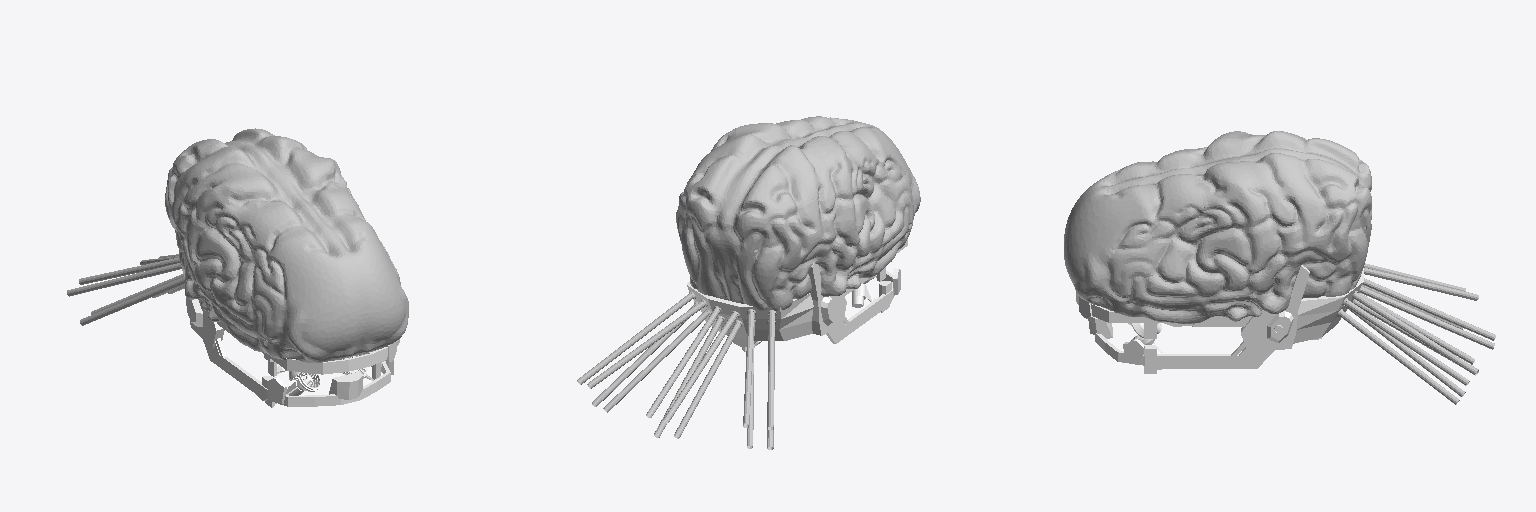
Rendered from AttackAnim_19.obj.
The picture shows the model from 3 angles: view 1: azimuth 30°, elevation 25°; view 2: azimuth 150°, elevation 25°; view 3: azimuth 270°, elevation 25°; orthographic projection.
Visible parts, largest first — view 1: Cube.006, Cube.016, Cube.009, Cube.049, Cube.051, Cube.014, Cube.048, Cube.008; view 2: Cube.006, Cube.003, Cube.008, Cube.016, Cube.044, Cube.045, Cube.047, Cube.055, Cube.053, Cube.052, Cube.048, Cube.049 (+2 smaller); view 3: Cube.006, Cube.016, Cube.003, Cube.012, Cube.046, Cube.052, Cube.045, Cube.053, Cube.044, Cube.047, Cube.048, Cube.009 (+2 smaller).
Part boxes in pixels (x1,y1,x2,y2): Cube.006: (165, 128, 408, 362); Cube.016: (203, 338, 390, 406); Cube.009: (254, 339, 399, 374); Cube.049: (67, 263, 181, 296); Cube.051: (80, 277, 184, 325); Cube.014: (329, 372, 363, 399); Cube.048: (79, 257, 179, 284); Cube.008: (182, 247, 224, 347); Cube.006: (676, 116, 920, 310); Cube.003: (687, 281, 813, 340); Cube.008: (808, 262, 846, 335); Cube.016: (826, 271, 894, 343); Cube.044: (577, 293, 693, 384); Cube.045: (587, 301, 705, 388); Cube.047: (603, 310, 709, 412); Cube.055: (674, 322, 740, 438); Cube.053: (663, 313, 737, 422); Cube.052: (646, 308, 720, 417); Cube.048: (743, 311, 754, 427); Cube.049: (767, 312, 774, 429); Cube.006: (1064, 131, 1371, 323); Cube.016: (1095, 333, 1273, 370); Cube.003: (1293, 268, 1363, 343); Cube.012: (1241, 265, 1309, 352); Cube.046: (1339, 311, 1459, 404); Cube.052: (1359, 287, 1494, 349); Cube.045: (1354, 293, 1478, 375); Cube.053: (1362, 278, 1495, 340); Cube.044: (1345, 300, 1469, 385); Cube.047: (1348, 308, 1465, 396); Cube.048: (1364, 268, 1478, 300); Cube.009: (1076, 293, 1192, 326).
Size of the model in its own units: 171 by 189 by 328.